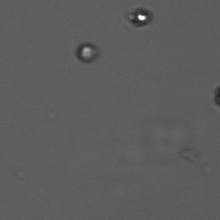Living Cell: (76, 42, 98, 62), (131, 9, 151, 25)
